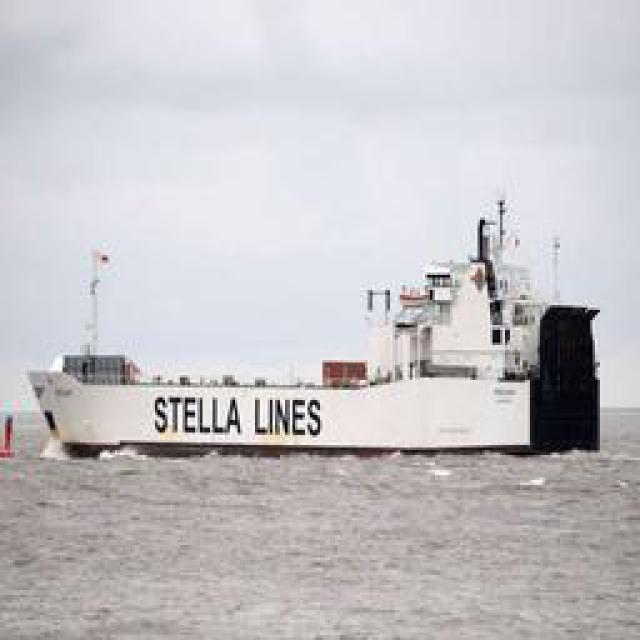Ship: (38, 197, 596, 450)
